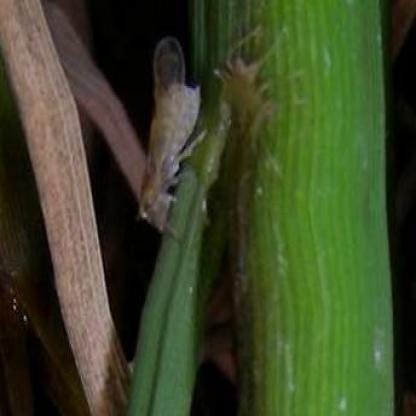brown-planthopper: (138, 37, 203, 233)
